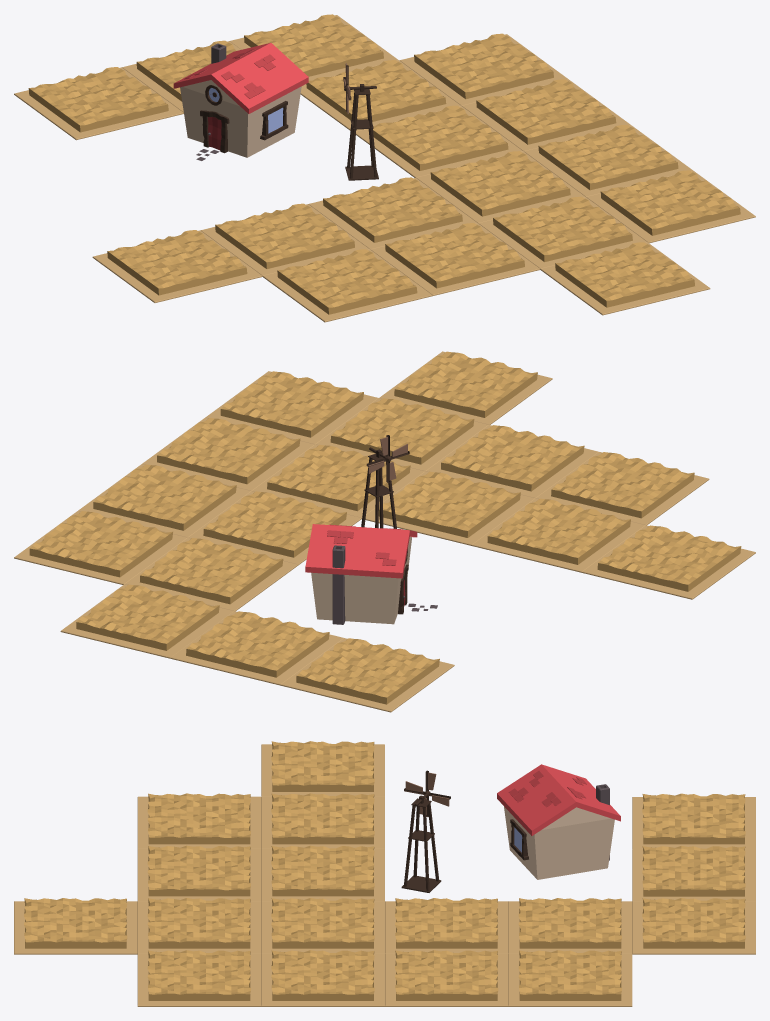
Rendered from Sunshield_Farm_nobase.glb.
3 renders of one model, top to bottom at view 1: azimuth 30°, elevation 25°; view 2: azimuth 150°, elevation 25°; view 3: azimuth 270°, elevation 25°, orthographic. The views are drawn at different scales.
Parts seen in each view (by area): view 1: Wheat Field, Wheat Field.001, Wheat Field.003, House, Wheat Field.002, Windmill; view 2: Wheat Field, Wheat Field.001, Wheat Field.003, Wheat Field.002, House, Windmill; view 3: Wheat Field, Wheat Field.001, Wheat Field.003, Wheat Field.002, House, Windmill.
Part boxes in pixels (x1,y1,x2,y2): Wheat Field: [308, 125, 755, 315]; Wheat Field.001: [230, 14, 630, 177]; Wheat Field.003: [92, 203, 432, 322]; House: [173, 43, 308, 160]; Wheat Field.002: [14, 40, 240, 140]; Windmill: [343, 63, 378, 180]; Wheat Field: [142, 351, 598, 545]; Wheat Field.001: [14, 464, 361, 658]; Wheat Field.003: [472, 452, 755, 599]; Wheat Field.002: [171, 611, 454, 712]; House: [305, 524, 437, 624]; Windmill: [361, 435, 409, 528]; Wheat Field: [14, 845, 384, 1006]; Wheat Field.001: [385, 898, 755, 1006]; Wheat Field.003: [137, 741, 384, 848]; Wheat Field.002: [632, 793, 755, 901]; House: [497, 764, 620, 879]; Windmill: [401, 770, 450, 892].
Size of the model in its own units: 45 by 8.69 by 54.
